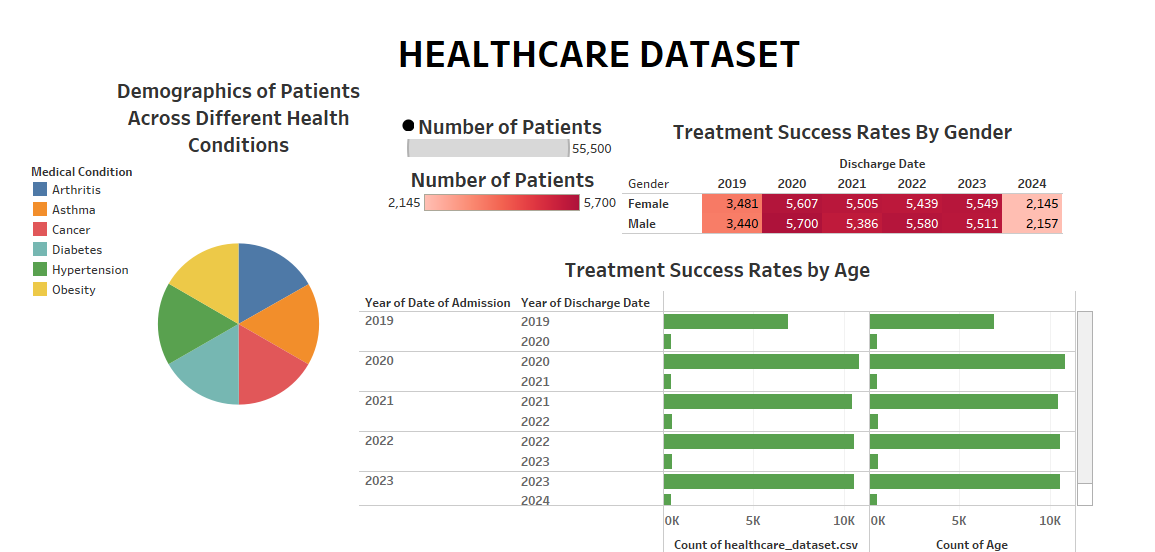

What the dashboard file says about the page in this screenshot:
{"tool":"tableau","page":{"name":"Dashboard 1","canvas":[1000,1000],"units":"permille","ordinal":0},"visuals":[{"type":"text","box":[292.6,59.8,451.9,67]},{"type":"worksheet","title":"Demographics of Patients Across Different Health Conditions","mark":"Pie","box":[83.1,126.8,603.1,773.2]},{"type":"legend","title":"Demographics of Patients Across Different Health Conditions","param":"[federated.0k0ksyv0a6o1pq1bykf5h04t6cxq].[__tableau_internal_object_id__].[cnt:h","box":[349.8,199.3,181.8,92.4]},{"type":"dashboard-object","box":[344.6,215.6,18.2,21.7]},{"type":"legend","title":"Demographics of Patients Across Different Health Conditions","param":"[federated.0k0ksyv0a6o1pq1bykf5h04t6cxq].[none:Medical Condition:nk]","box":[26,291.7,215.6,300.7]},{"type":"legend","title":"Treatment Success Rates By Gender","param":"[federated.0k0ksyv0a6o1pq1bykf5h04t6cxq].[__tableau_internal_object_id__].[cnt:h","box":[332.5,291.7,205.2,135.9]}]}

Visuals, with their boxes on the dashboard's canvas, which has no fixed pixel size, in thousandths of its width and height (x1, y1, x2, y2). These are canvas units, not pixel positions in the 1155x552 screenshot, which may show the page scaled, cropped or inside an application window:
text: detection(293, 60, 744, 127)
"Demographics of Patients Across Different Health Conditions" worksheet (Pie marks): detection(83, 127, 686, 900)
"Demographics of Patients Across Different Health Conditions" legend: detection(350, 199, 532, 292)
dashboard-object: detection(345, 216, 363, 237)
"Demographics of Patients Across Different Health Conditions" legend: detection(26, 292, 242, 592)
"Treatment Success Rates By Gender" legend: detection(332, 292, 538, 428)
